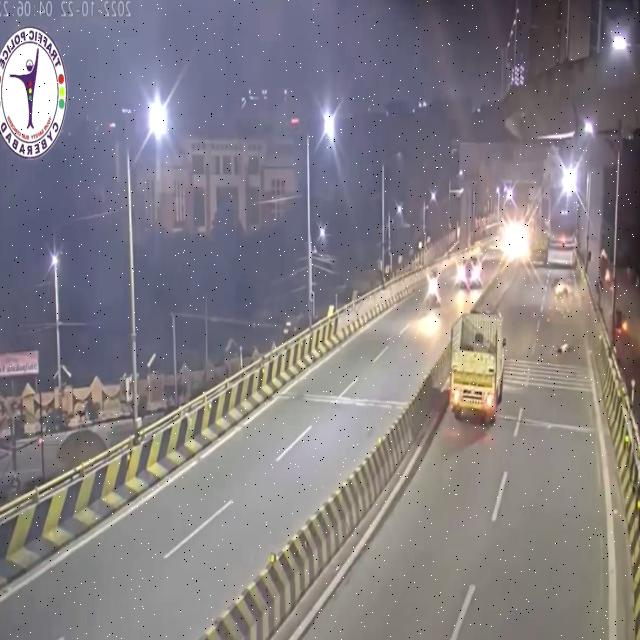accident: (547, 274, 585, 309)
